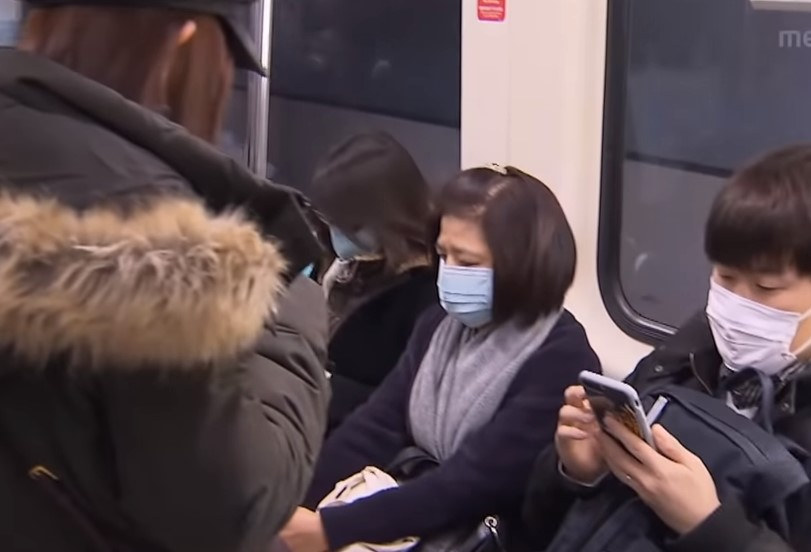face_with_mask: (704, 153, 811, 384), (429, 163, 567, 332)
